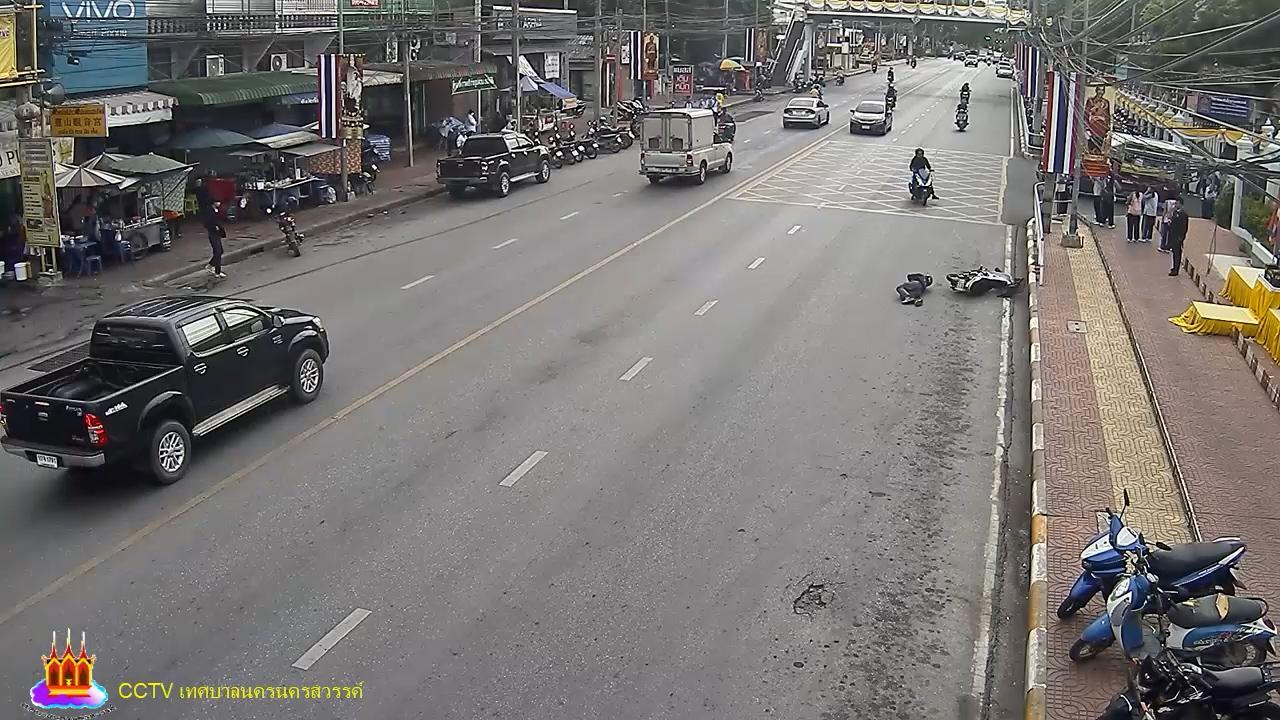accident: (895, 267, 933, 310)
